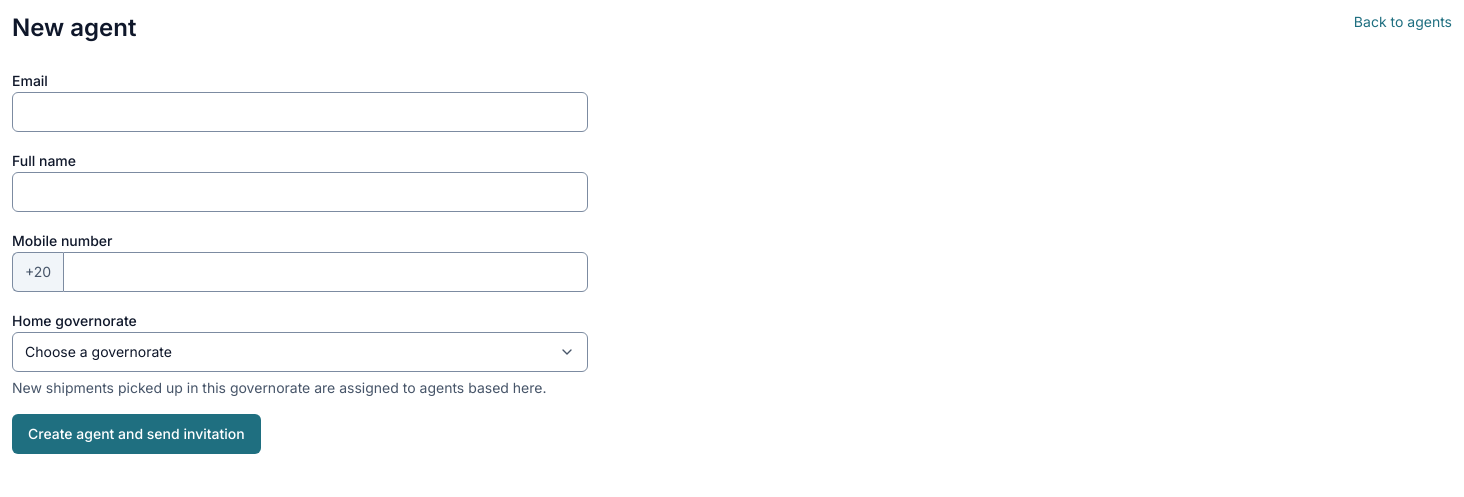
Test: new agent (spec 03 AD-10) › EMAIL_ALREADY_REGISTERED goes on the email field
The image size is (1464, 497).
Type " New.Agent@Example.test " into the field labelled "Email" at (300, 112), box [12,92,588,132]
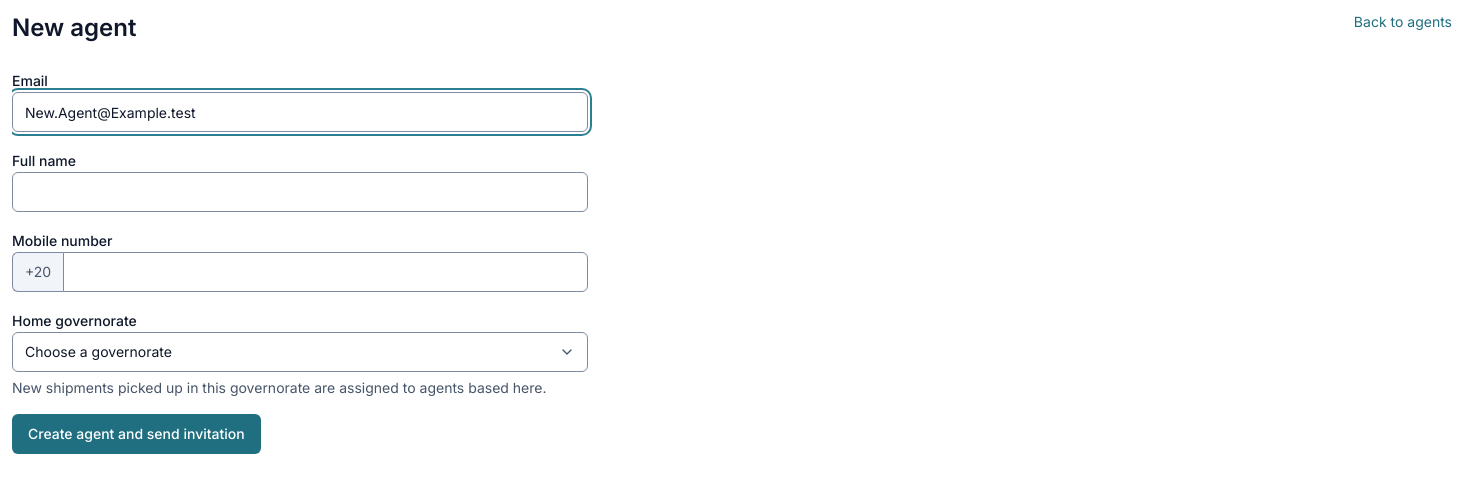
Type "New Agent" into the field labelled "Full name" at (300, 192), box [12,172,588,212]
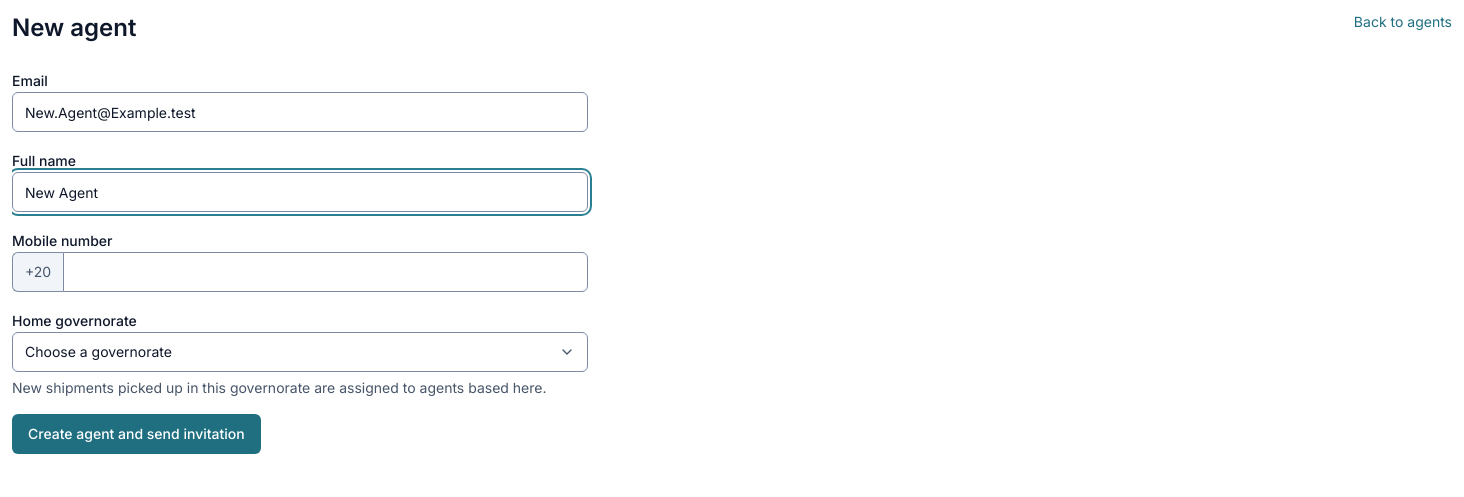
Type "01012345678" into the field labelled "Mobile number" at (326, 272), box [63,252,588,292]
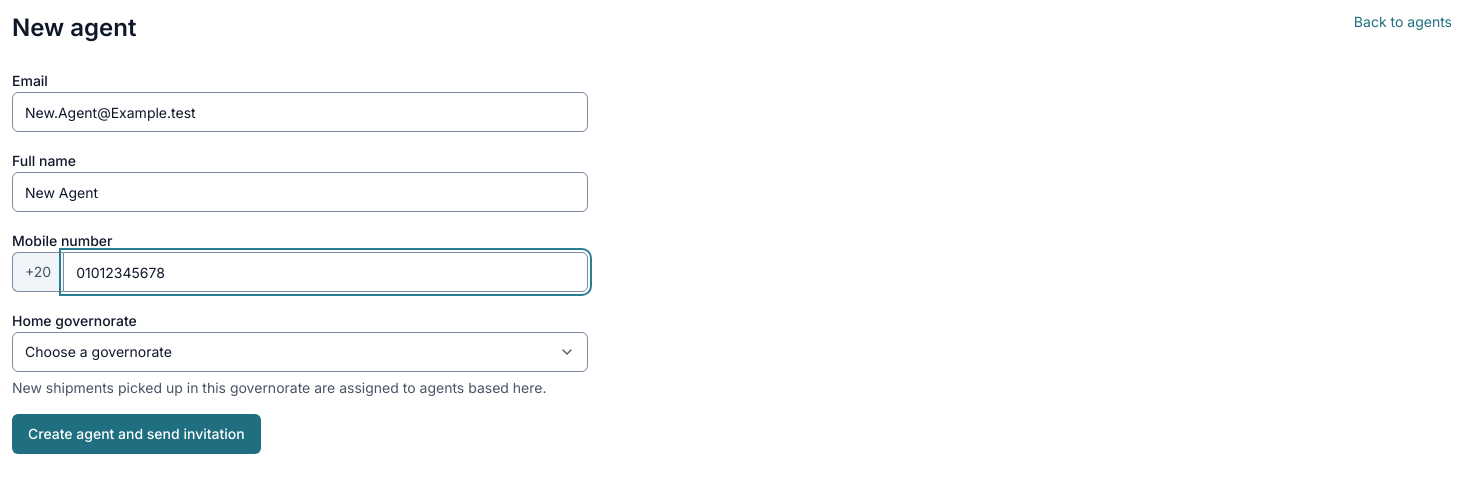
Click the dropdown named "Home governorate" at (98, 352), box [12,332,588,372]
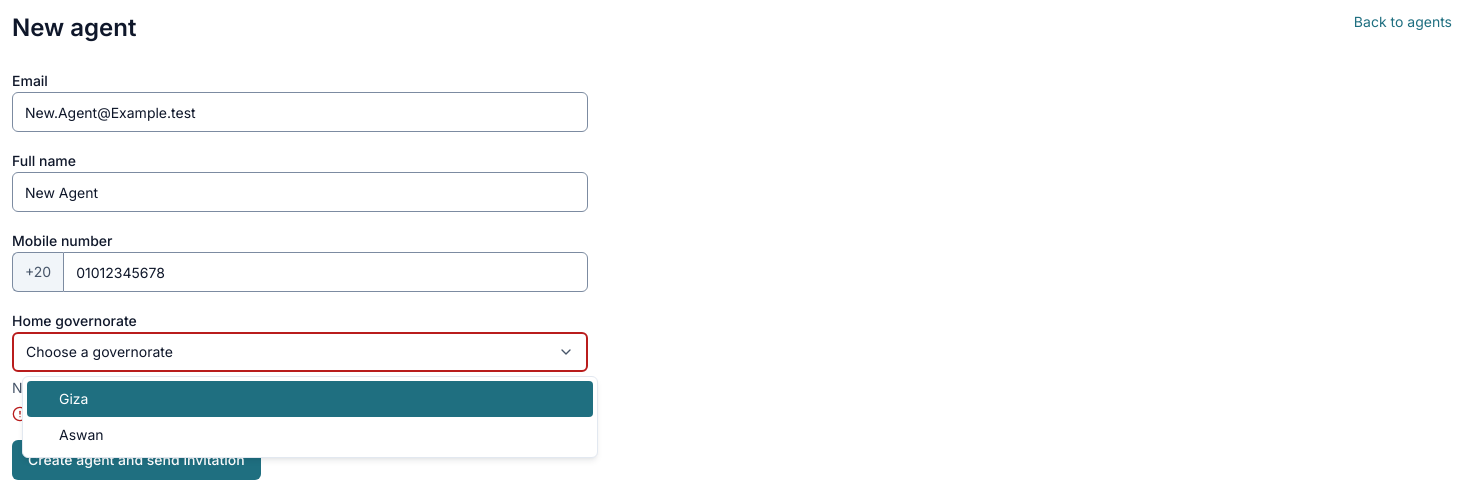
Click the option "Aswan" at (81, 434), box [59,426,104,443]
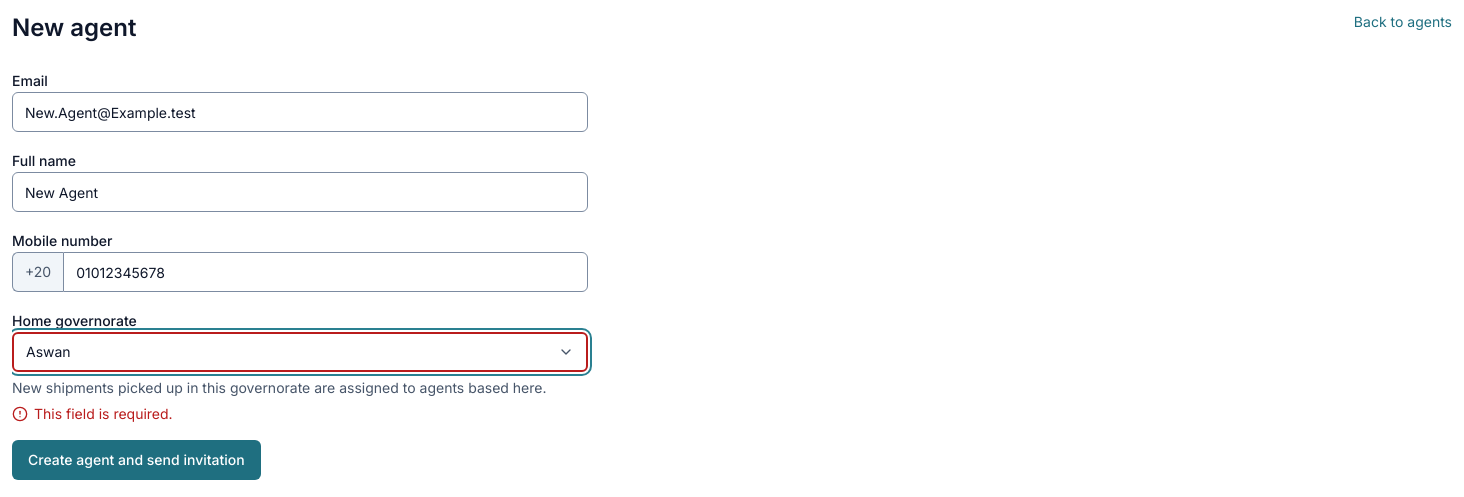
Click the button "Create agent and send invitation" at (136, 460), box [12,440,261,480]
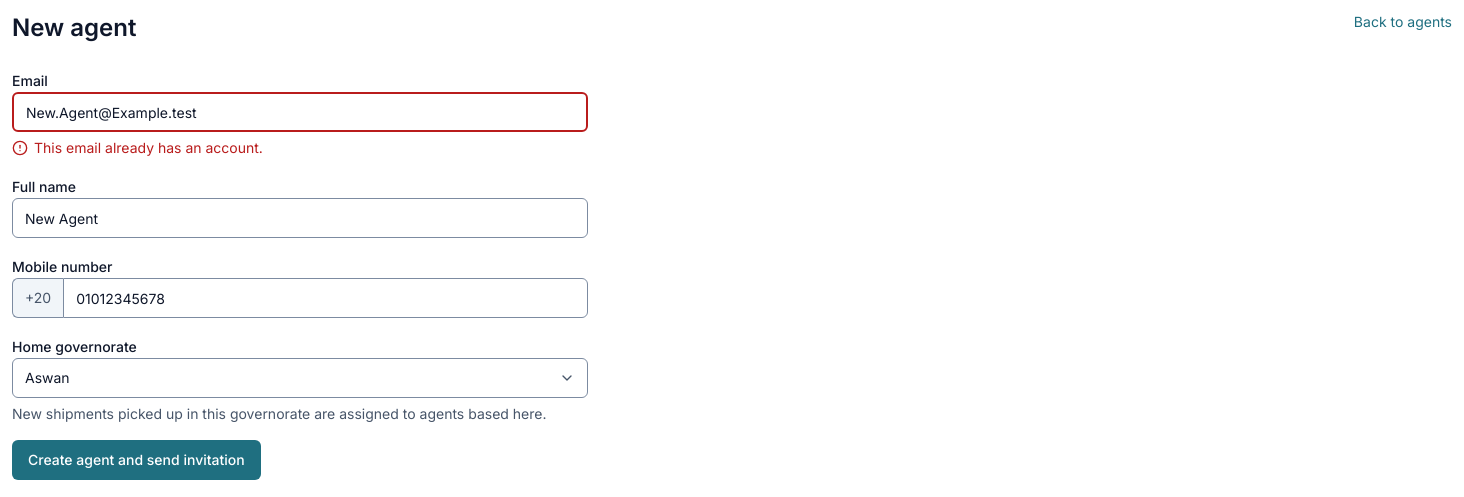
Now the text "This email already has an account." is shown, box [12,139,263,156]
